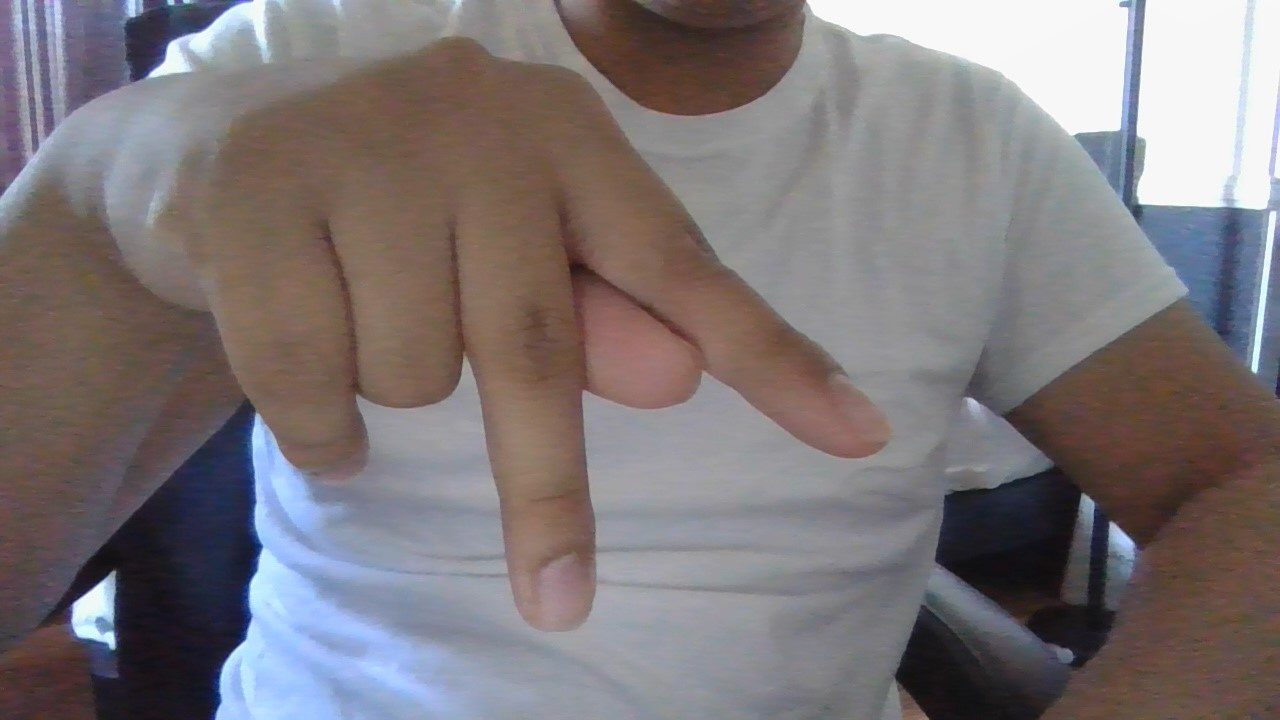p: (41, 31, 948, 653)
